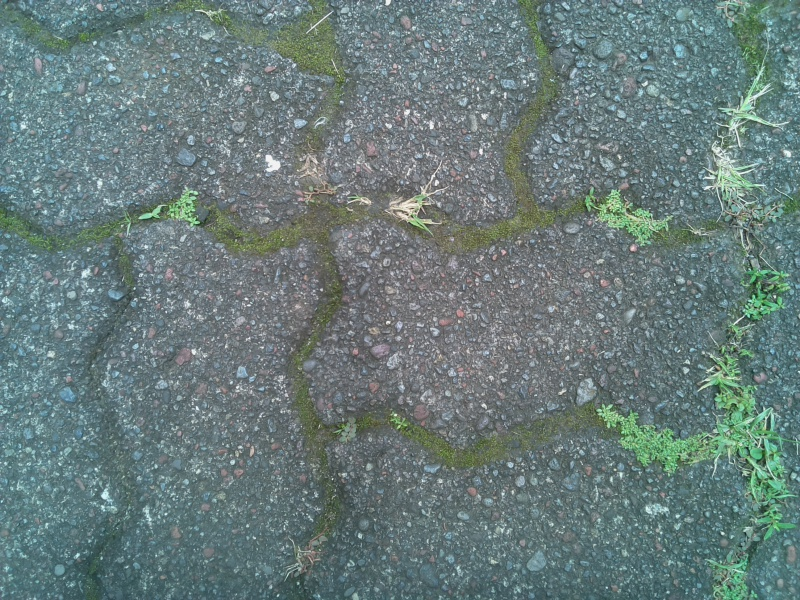Weed: (589, 400, 755, 475), (739, 428, 795, 556), (704, 349, 772, 443), (579, 185, 668, 247), (381, 182, 439, 239), (719, 75, 767, 139), (706, 142, 752, 208), (738, 261, 789, 320), (140, 187, 205, 230), (705, 550, 755, 600)
